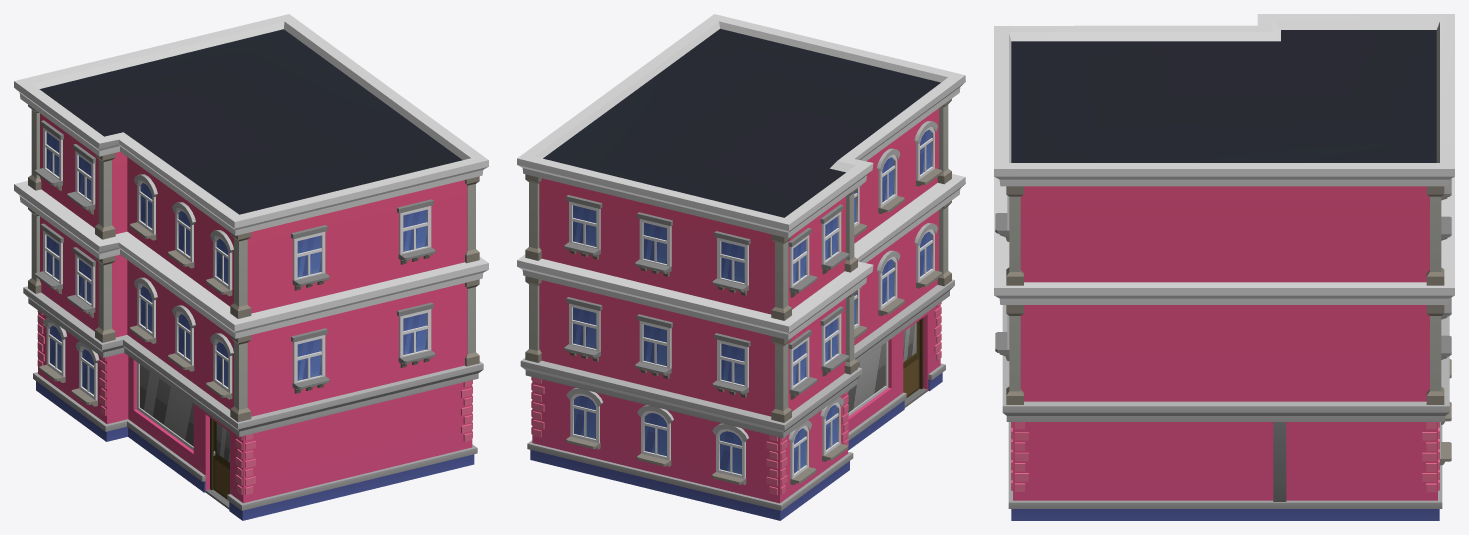
The model's file is Building_1_3_C.fbx.
3 renders of one model, left to right at view 1: azimuth 30°, elevation 25°; view 2: azimuth 150°, elevation 25°; view 3: azimuth 270°, elevation 25°, orthographic. The views are drawn at different scales.
Parts seen in each view (by area): view 1: Building_1_3_C; view 2: Building_1_3_C; view 3: Building_1_3_C.
Boxes of the visible parts, x1,y1,x2,y2 form: Building_1_3_C: (14,14,488,520); Building_1_3_C: (517,14,965,520); Building_1_3_C: (994,14,1454,520).
Size of the model in its own units: 841 by 900 by 1057.
